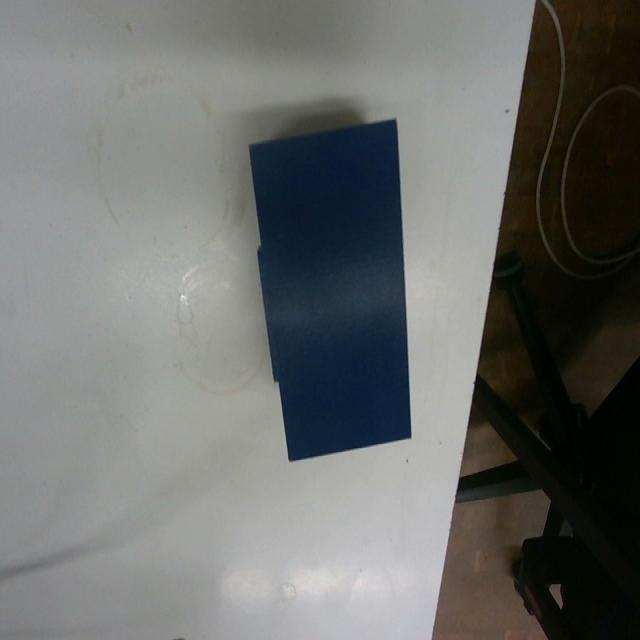Blue Cuboid: (245, 113, 414, 463)
